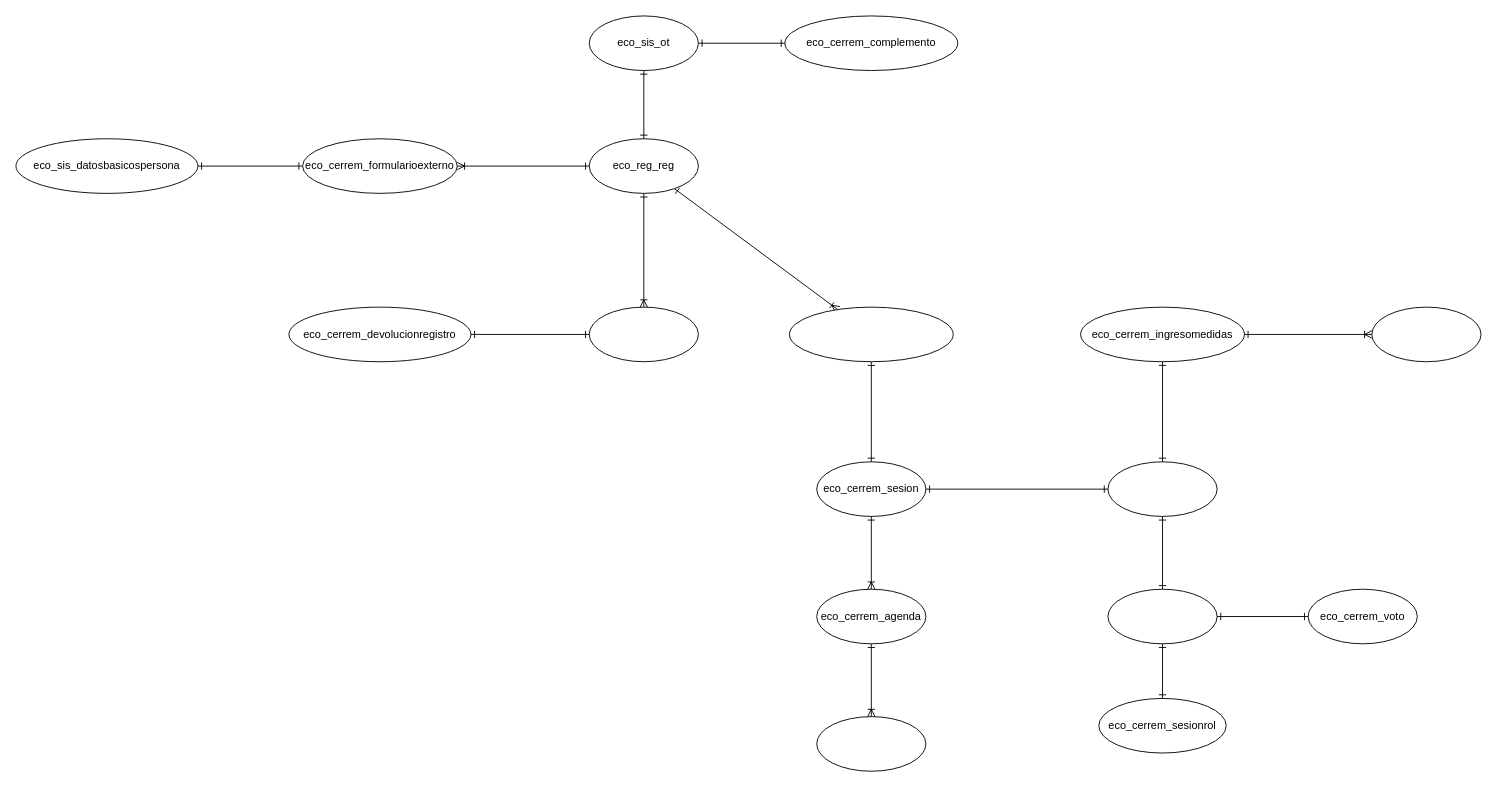
Image size: 1497x787. Some labels were removed from this diagram. The centre of each missing label's shape, as x and y in pixels:
"eco_bas_comite" goes at (x=871, y=743).
"eco_cerrem_reunion" goes at (x=1162, y=488).
"eco_cerrem_sesionregistro" goes at (x=871, y=334).
"eco_ctar_medida" goes at (x=1426, y=334).
"eco_reg_trazabilidad" goes at (x=643, y=334).
"eco_usr_usuario" goes at (x=1162, y=616).
